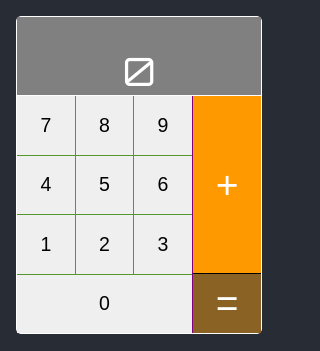
Scenario: Testing the calculator app › Returning a different number, just to show we can return any result we want! 💪
The width and height of the screenshot is (320, 351).
Check: the 1st text "0" is shown, box x1=17 y1=17 x2=261 y2=96
Click the button with class "number-5" at (105, 186), box x1=75 y1=156 x2=134 y2=215
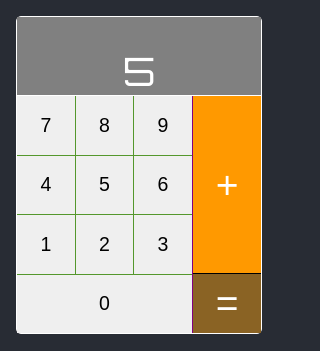
Click the button "+" at (227, 185), box x1=193 y1=96 x2=261 y2=274
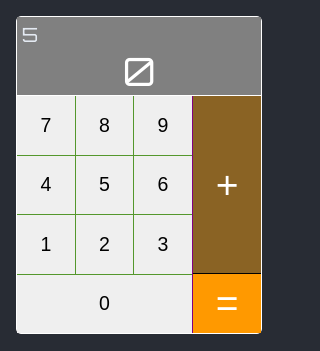
Click the button with class "number-6" at (164, 186), box x1=134 y1=156 x2=193 y2=215
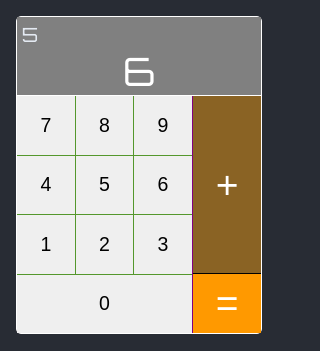
Click the button with class "equals" at (227, 304), box x1=193 y1=274 x2=261 y2=333
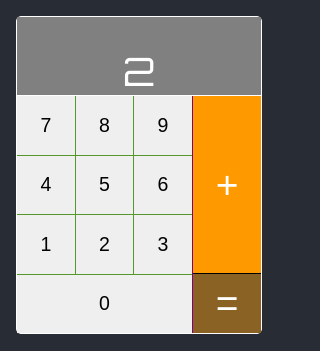
Check: the text "2" is shown, box x1=17 y1=17 x2=261 y2=96
